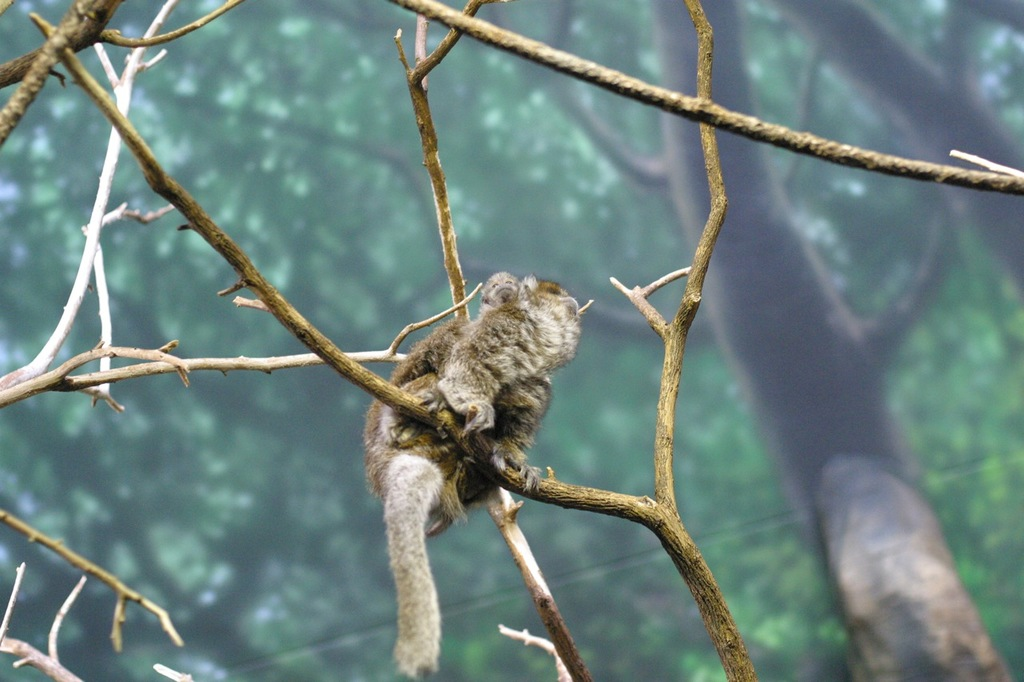Animal: (360, 272, 583, 678)
